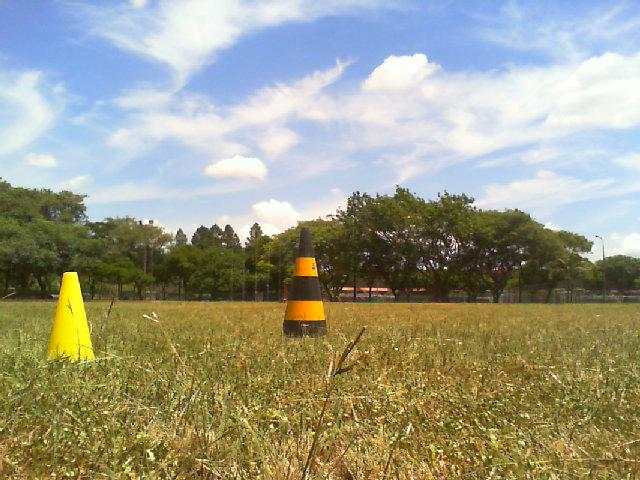0 cone: (280, 228, 327, 339), (48, 273, 94, 362)
